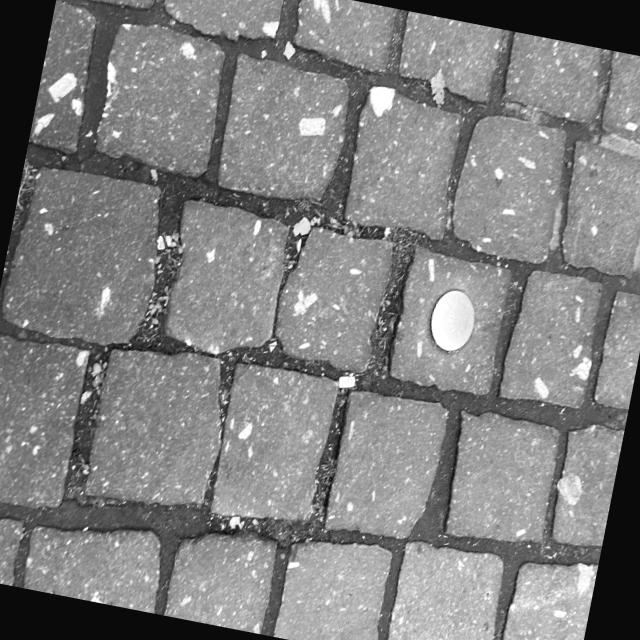pavement: (164, 0, 640, 381), (106, 308, 305, 632), (509, 380, 616, 640)
weedling: (219, 226, 269, 298)
